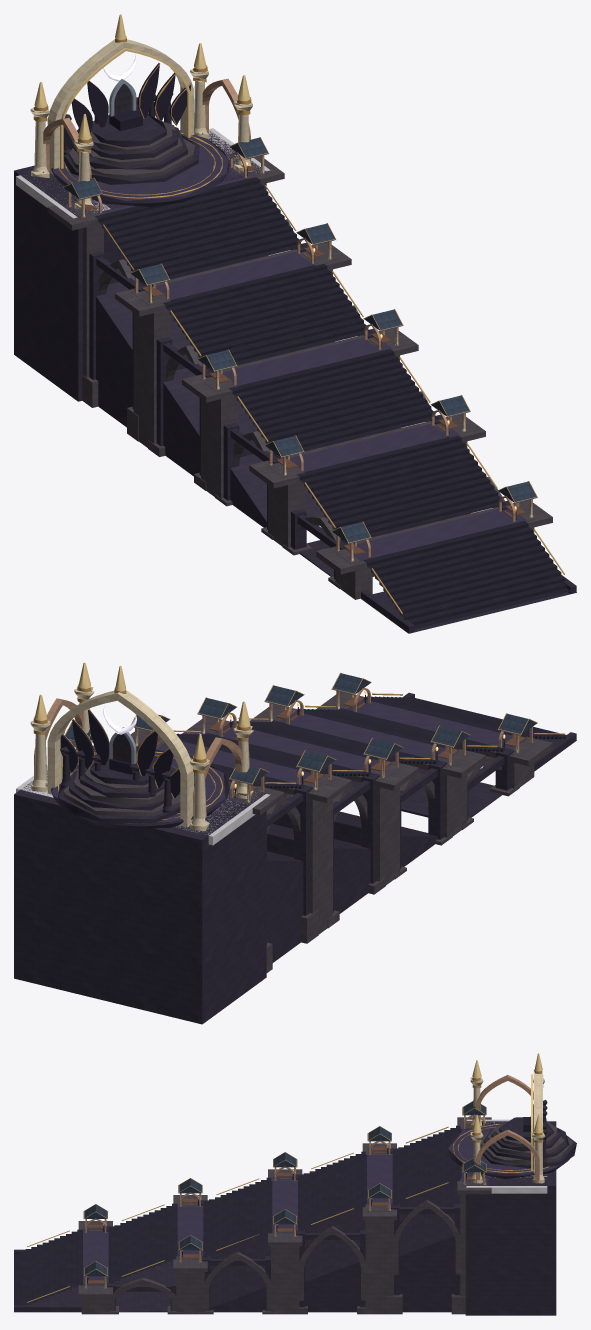
File: arbitration-steps-far.glb
3 views of the same model, one above another, from view 1: azimuth 30°, elevation 25°; view 2: azimuth 150°, elevation 25°; view 3: azimuth 270°, elevation 25° (orthographic). The views are drawn at different scales.
Size of the model in its own units: 8.4 by 12.33 by 27.36.
17 materials, 17 textured.
